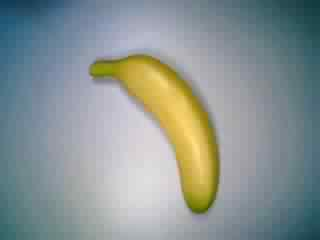banana: (83, 47, 225, 214)
